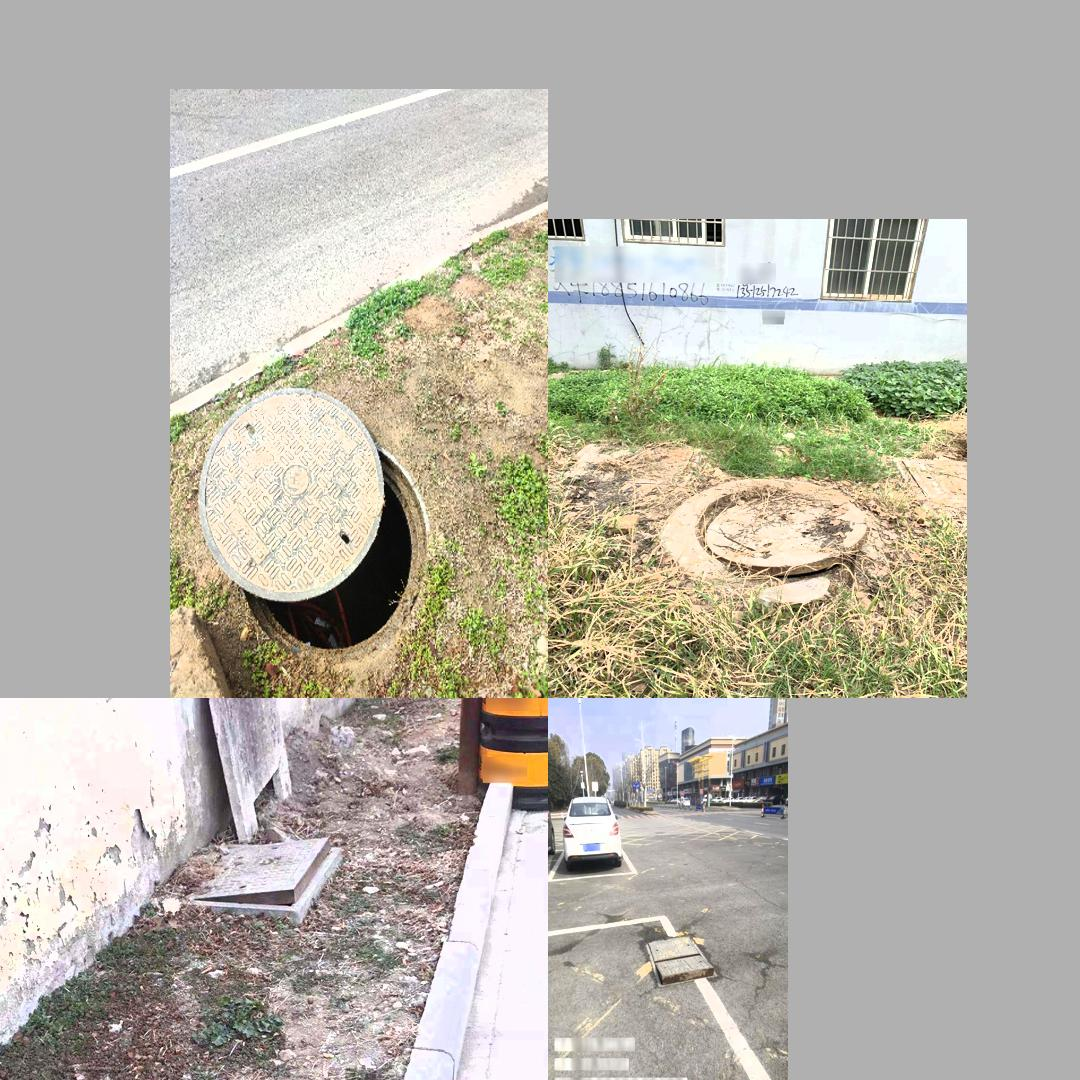uncovered: (199, 385, 426, 665), (695, 487, 868, 574), (181, 836, 343, 920), (646, 935, 717, 989)
